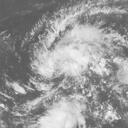cyclone: (30, 5, 115, 81)
